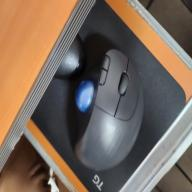mouse: (72, 46, 145, 171)
